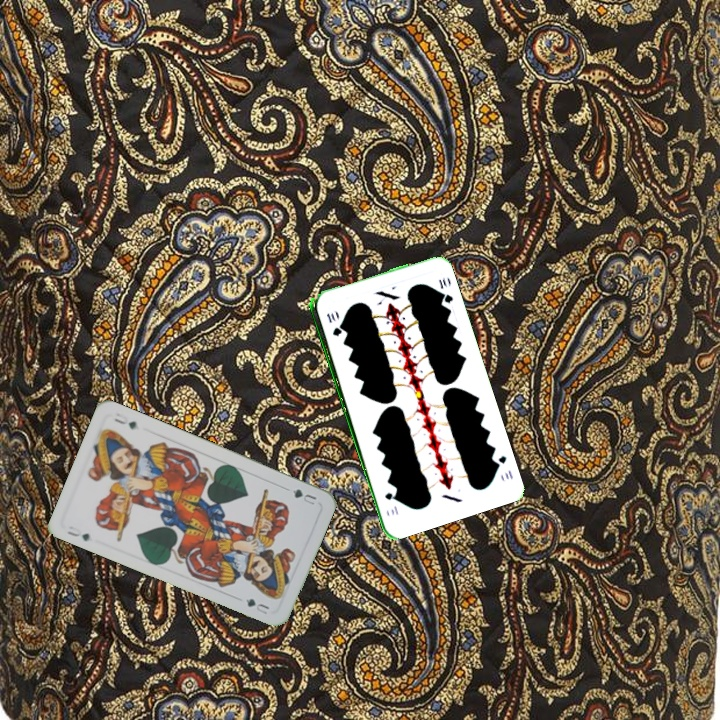G10: (490, 452, 516, 482), (323, 309, 342, 339)
GU: (288, 485, 319, 508), (63, 522, 92, 544)
